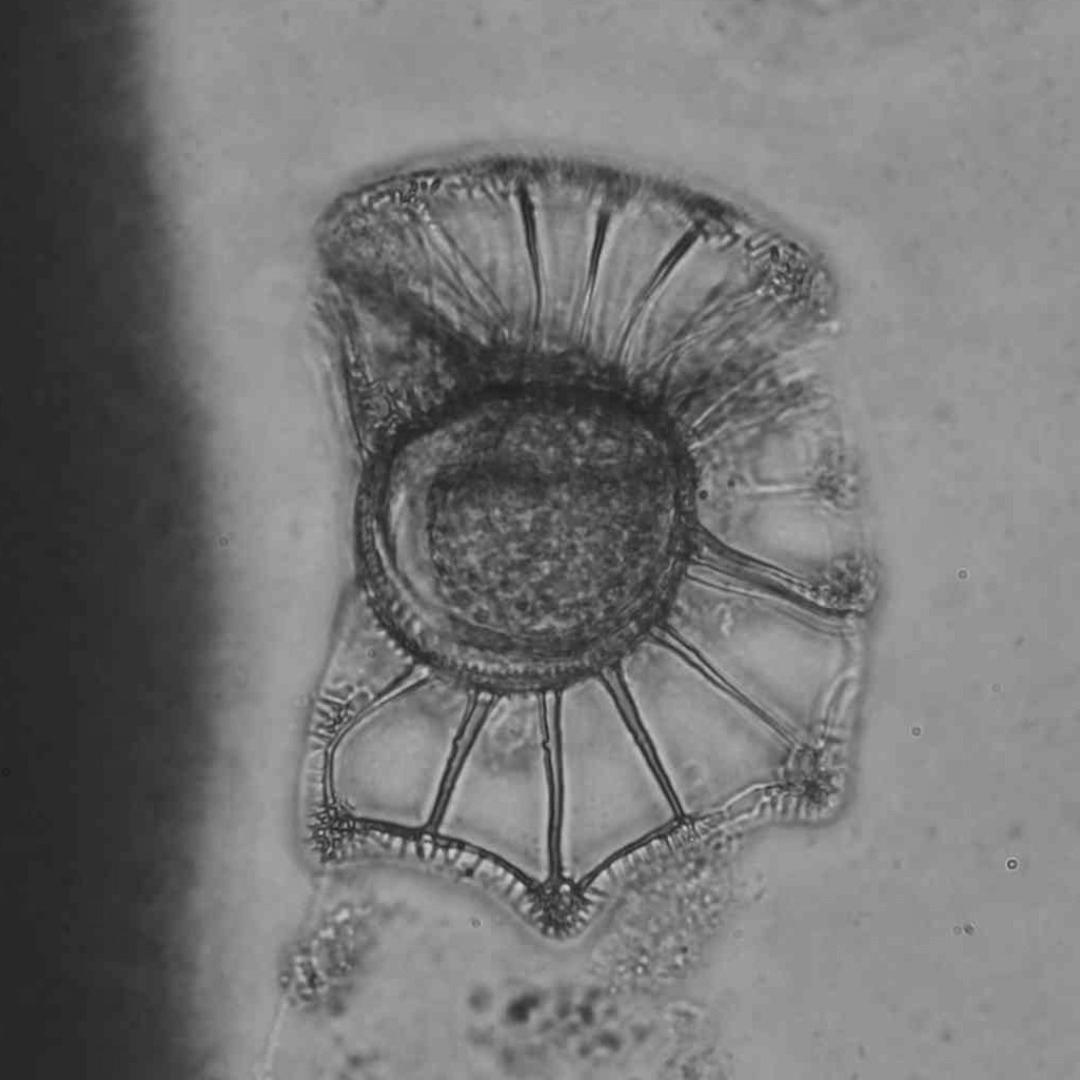ornithocercus_thumii: (303, 153, 883, 950)
